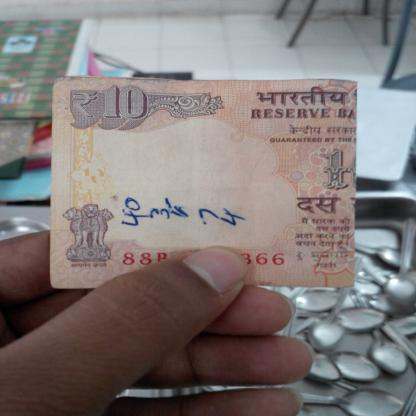Old10Front: (48, 76, 360, 291)
